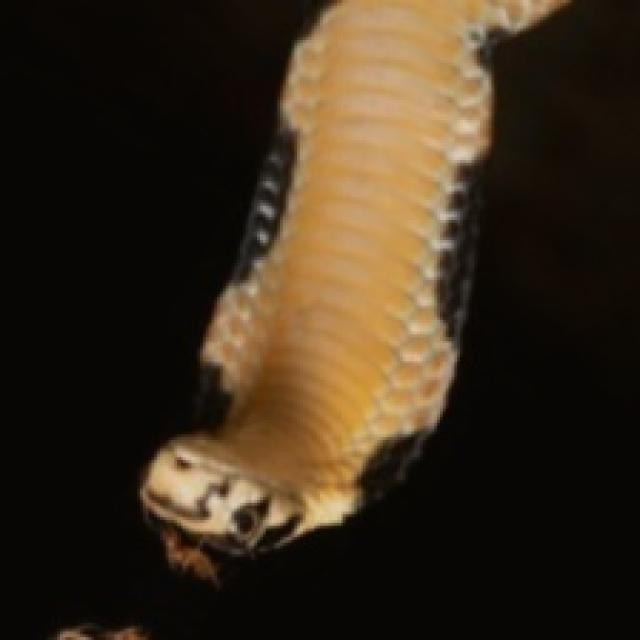king cobra: (120, 3, 637, 637), (220, 0, 637, 637)
